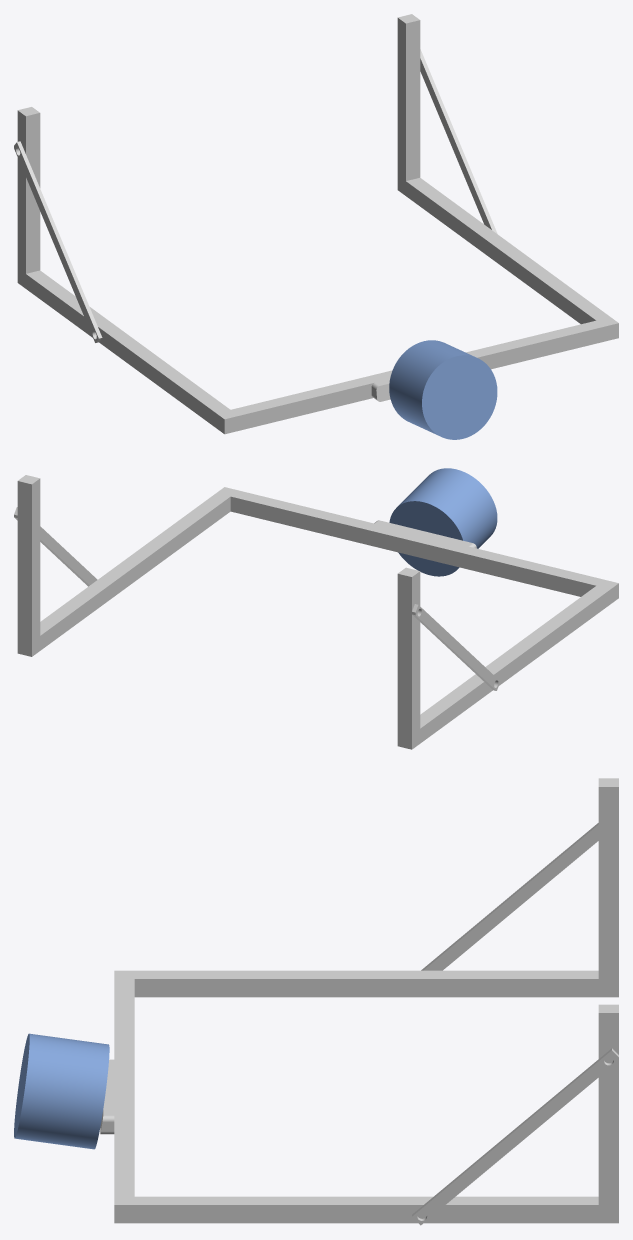
Rendered from husky_sensor_arch.gltf.
The picture shows the model from 3 angles, top to bottom: view 1: azimuth 30°, elevation 25°; view 2: azimuth 150°, elevation 25°; view 3: azimuth 270°, elevation 25°; orthographic projection. The views are drawn at different scales.
Parts seen in each view (by area): view 1: Top Assembly, Lidar; view 2: Top Assembly, Lidar; view 3: Top Assembly, Lidar.
Part boxes in pixels (bbox=[...]): Top Assembly: bbox=[14, 14, 618, 434]; Lidar: bbox=[389, 340, 497, 439]; Top Assembly: bbox=[14, 475, 618, 749]; Lidar: bbox=[389, 468, 497, 576]; Top Assembly: bbox=[100, 778, 618, 1225]; Lidar: bbox=[14, 1033, 109, 1149].
Size of the model in its own units: 0.56 by 0.2719 by 0.5994.
